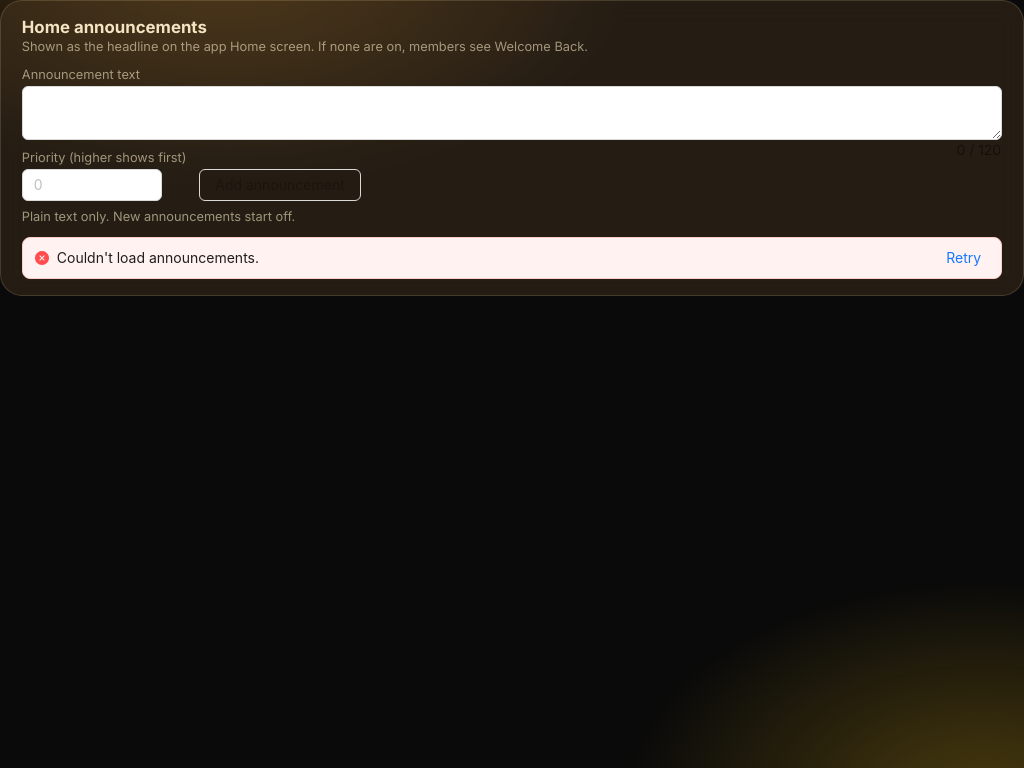
Test: AdminHomeMessages › load error shows retry
The width and height of the screenshot is (1024, 768).
Expected: the text "Couldn't load announcements." is shown, [57,249,259,266]
Click the button "Retry" at (964, 258), box [938,246,989,270]
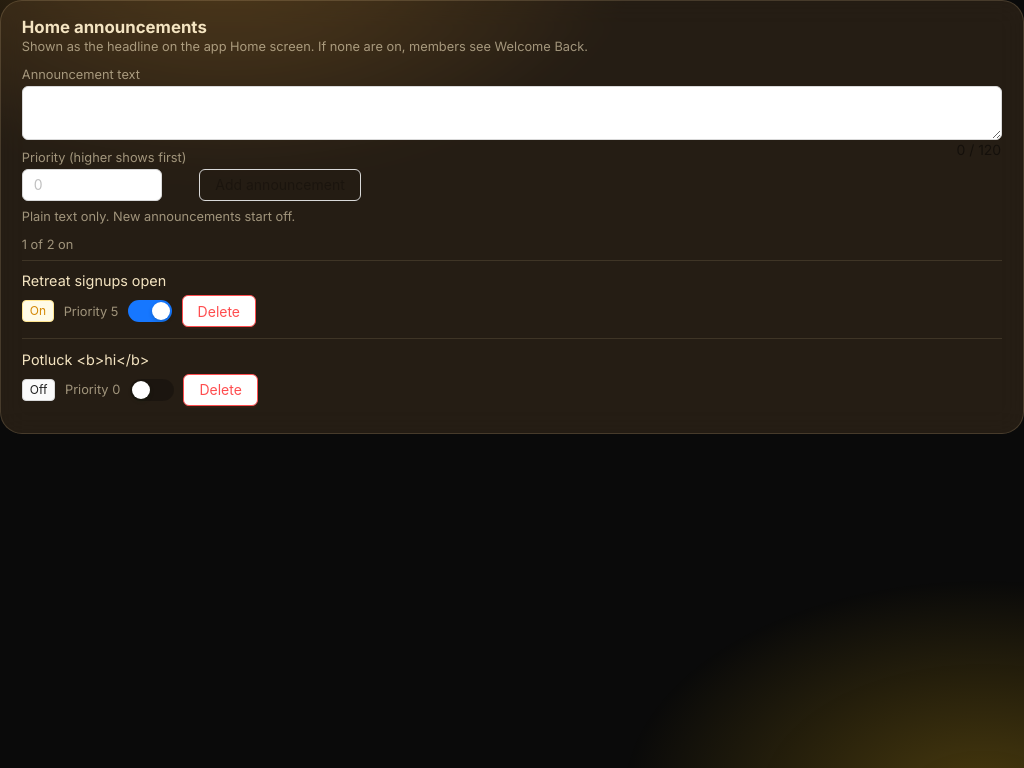
Now the text "Retreat signups open" is shown, box [22,272,166,289]
